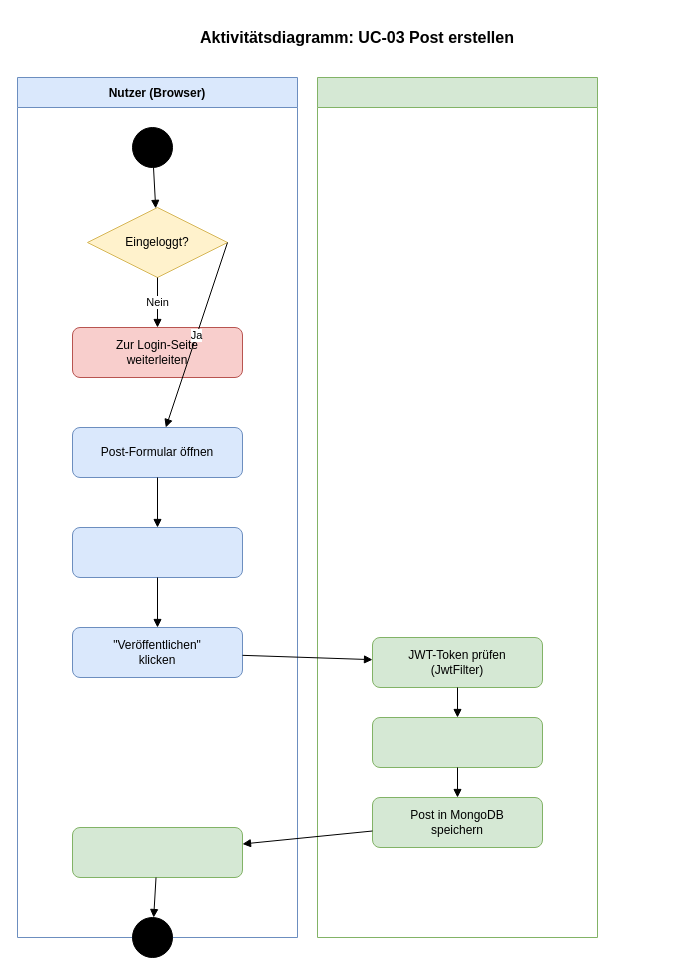
Some shapes in this 675 by 975 pixel diagram are drawn without their labels. Here are the shapes that lost their labels. From the top down, the box of each, then its label:
(316, 76, 598, 938): System (Backend)
(72, 526, 242, 578): Text eingeben (max. 500 Zeichen)
(372, 716, 542, 768): Inhalt validieren (@Valid PostRequest)
(72, 826, 242, 878): Zum Feed weiterleiten (Post sichtbar)
